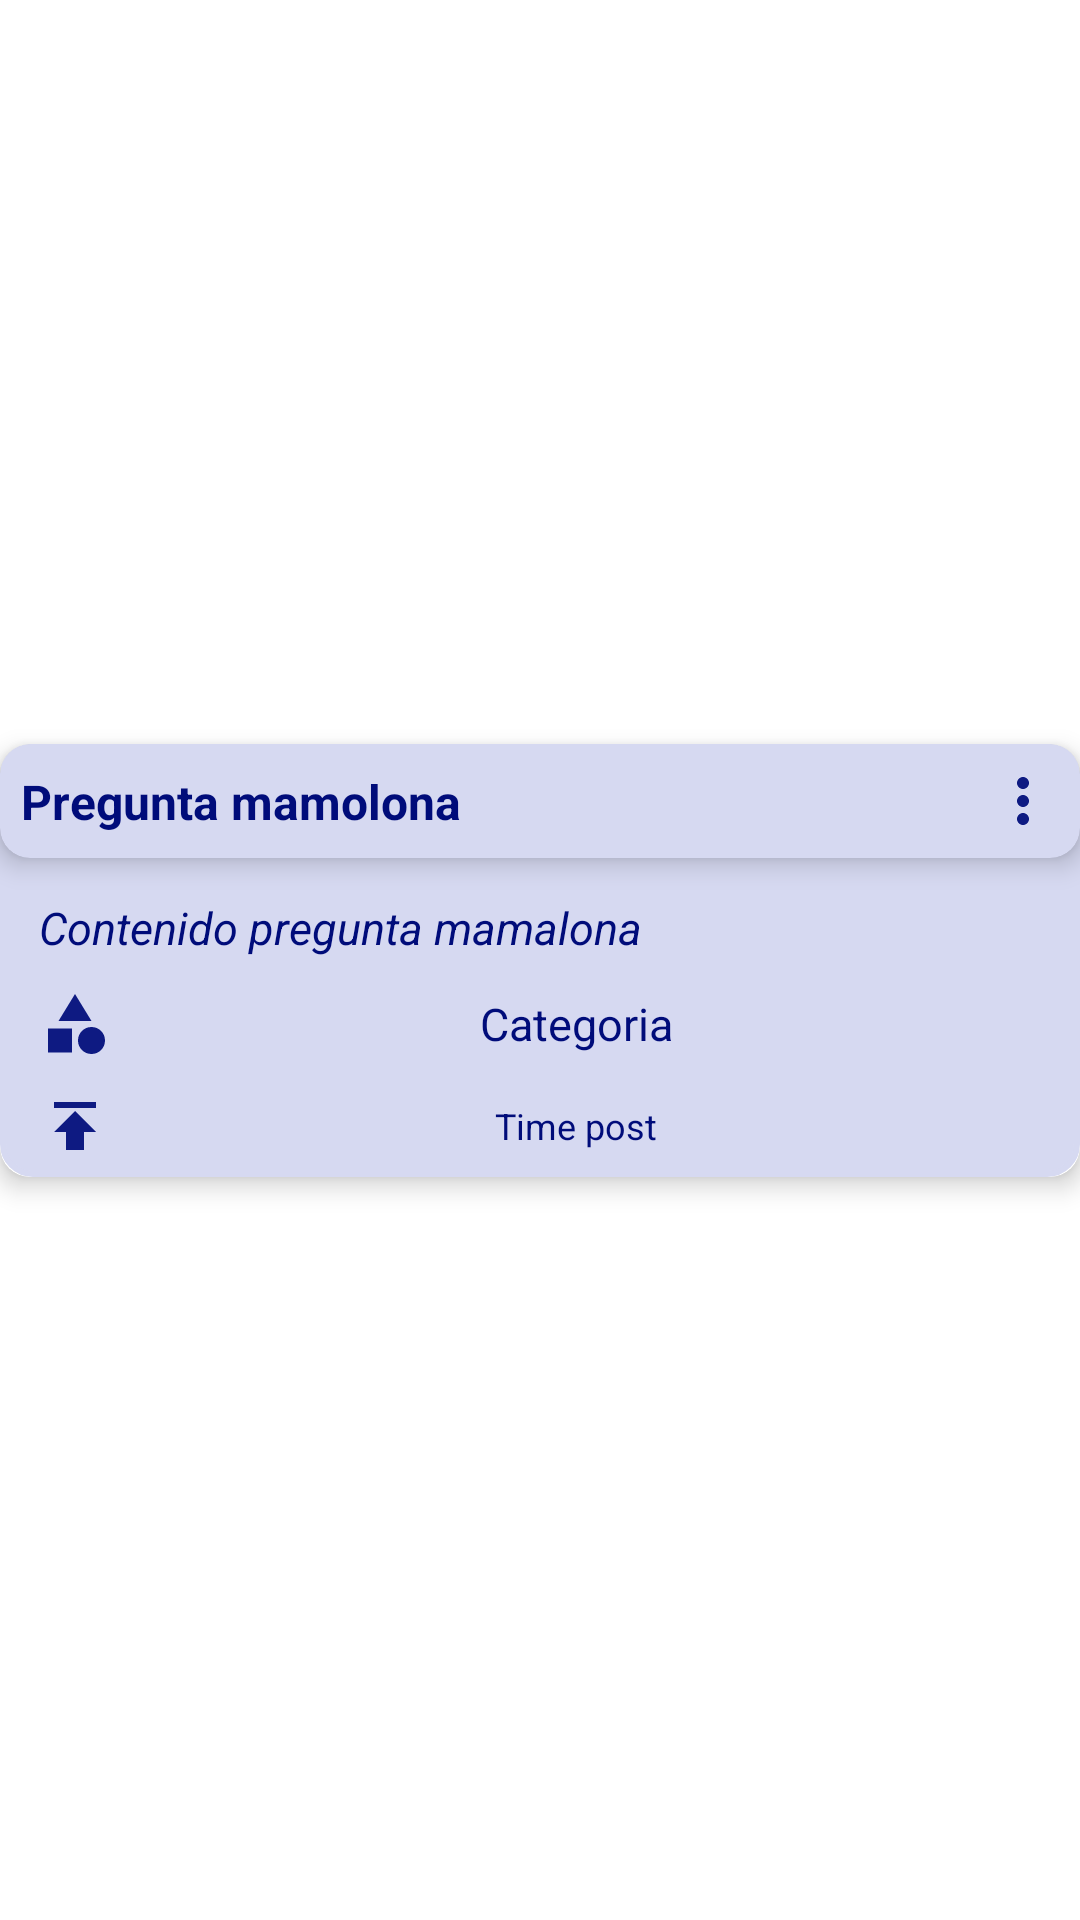

Icon click points for this 1080px x 1920px phone screenshot, format (x=x, y=y):
more vert: (x=1023, y=801)
